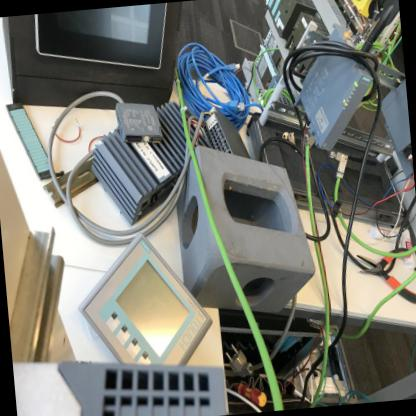CornerCasting: (170, 132, 320, 324)
